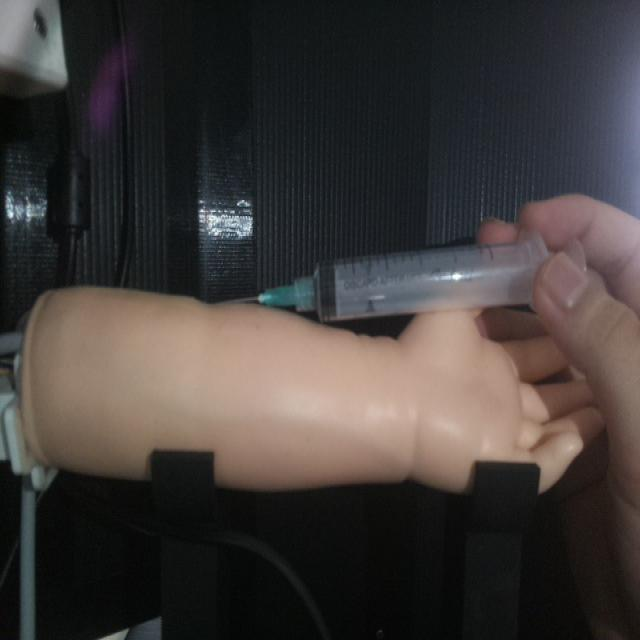Outside: (223, 229, 593, 325)
